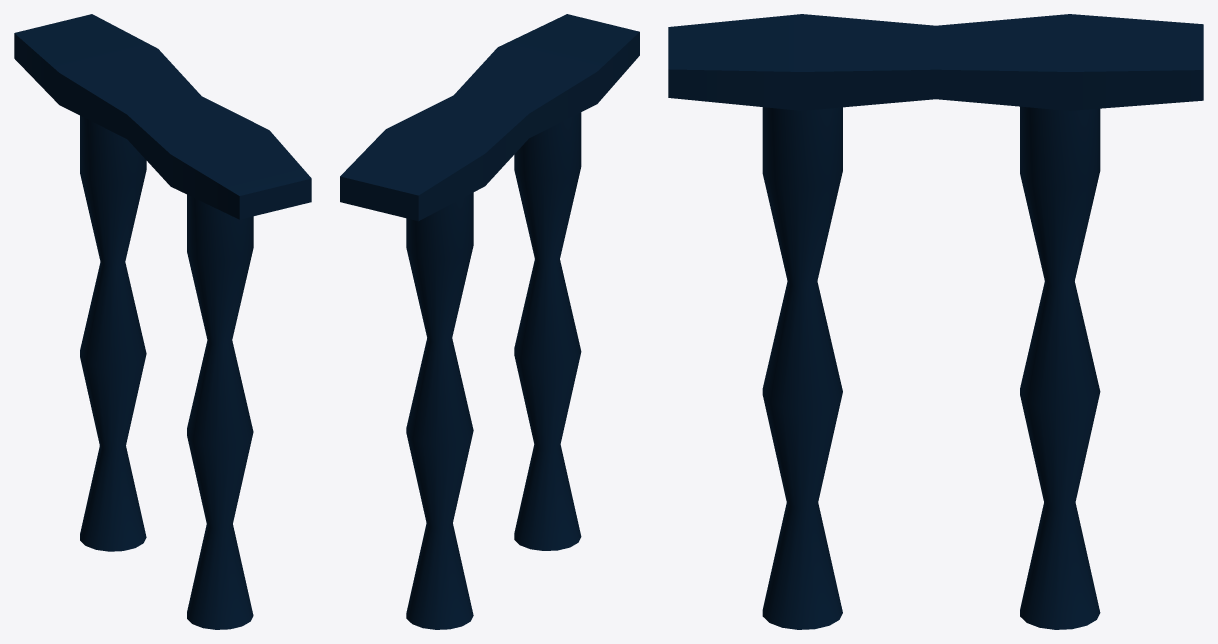
Rendered from 3D_HEKJEDAK_001.FBX.
The picture shows the model from 3 angles, left to right: view 1: azimuth 30°, elevation 25°; view 2: azimuth 150°, elevation 25°; view 3: azimuth 270°, elevation 25°; orthographic projection. The views are drawn at different scales.
Visible parts, largest first — view 1: 3D_HEKJEDAK_001; view 2: 3D_HEKJEDAK_001; view 3: 3D_HEKJEDAK_001.
Part boxes in pixels (x1=…): 3D_HEKJEDAK_001: x1=14, y1=14, x2=311, y2=629; 3D_HEKJEDAK_001: x1=340, y1=14, x2=639, y2=629; 3D_HEKJEDAK_001: x1=668, y1=14, x2=1203, y2=629.
Bounding box in the file's own units: 19.08 × 87.33 × 74.36.
